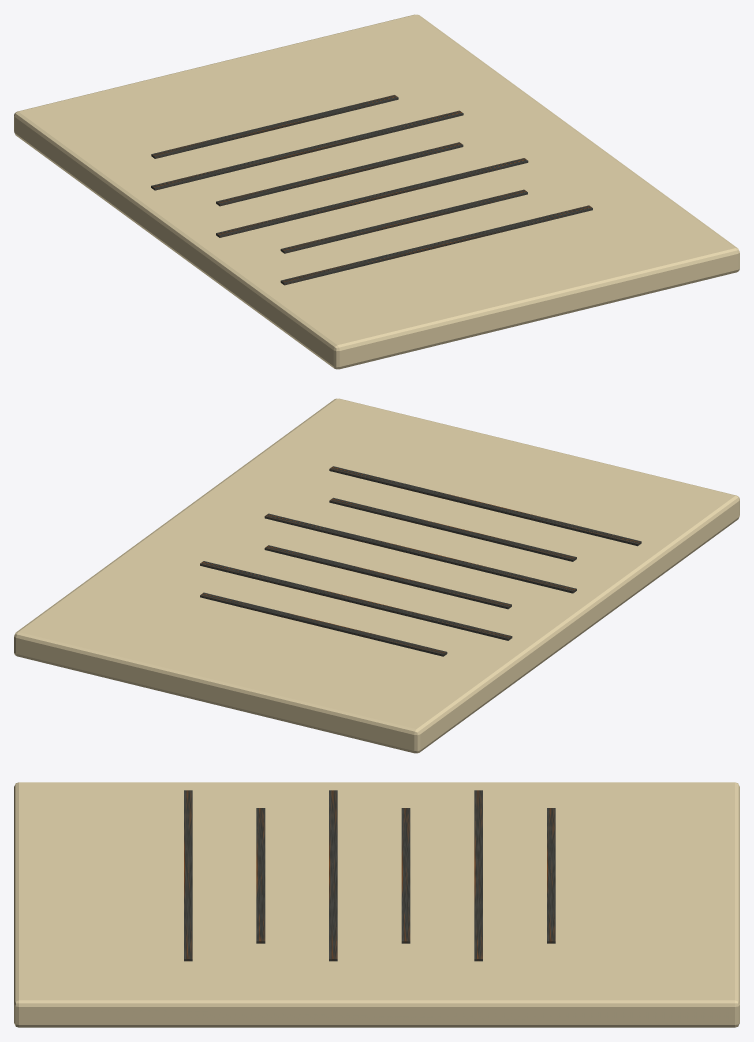
File: surat.glb
3 renders of one model, top to bottom at view 1: azimuth 30°, elevation 25°; view 2: azimuth 150°, elevation 25°; view 3: azimuth 270°, elevation 25°, orthographic. The views are drawn at different scales.
Parts seen in each view (by area): view 1: Lembar.001, Garis.006, Garis.010, Garis.008, Garis.009, Garis.007, Garis.011; view 2: Lembar.001, Garis.006, Garis.008, Garis.010, Garis.007, Garis.009, Garis.011; view 3: Lembar.001, Garis.006, Garis.008, Garis.010, Garis.007, Garis.009, Garis.011.
Part boxes in pixels (x1,y1,x2,y2): Lembar.001: (14,14,739,369); Garis.006: (280,205,592,285); Garis.010: (151,110,463,190); Garis.008: (216,158,528,237); Garis.009: (216,142,463,206); Garis.007: (280,189,527,253); Garis.011: (151,95,398,158); Lembar.001: (14,398,739,753); Garis.006: (329,466,641,546); Garis.008: (264,513,576,593); Garis.010: (200,561,512,640); Garis.007: (329,497,576,561); Garis.009: (264,545,511,609); Garis.011: (200,592,447,656); Lembar.001: (14,782,739,1027); Garis.006: (184,790,192,961); Garis.008: (329,790,337,961); Garis.010: (474,790,482,961); Garis.007: (256,808,265,943); Garis.009: (401,808,410,943); Garis.011: (547,808,555,943).
Size of the model in its own units: 0.21 by 0.0135 by 0.29.
Materials: 2 (1 with a texture image).
